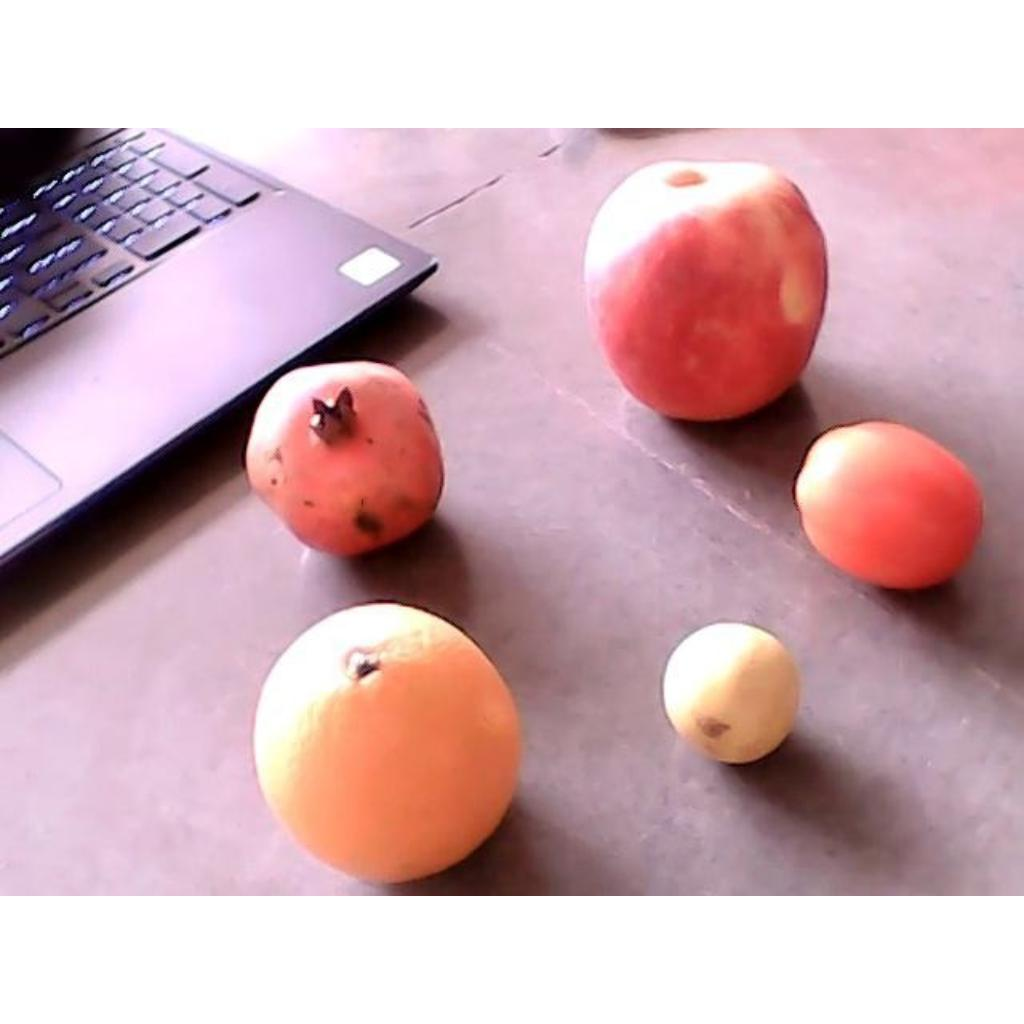apple: (587, 160, 829, 420)
lemon: (662, 622, 797, 763)
orange: (255, 602, 521, 884)
pomegranate: (246, 362, 445, 558)
tomato: (796, 415, 986, 589)
